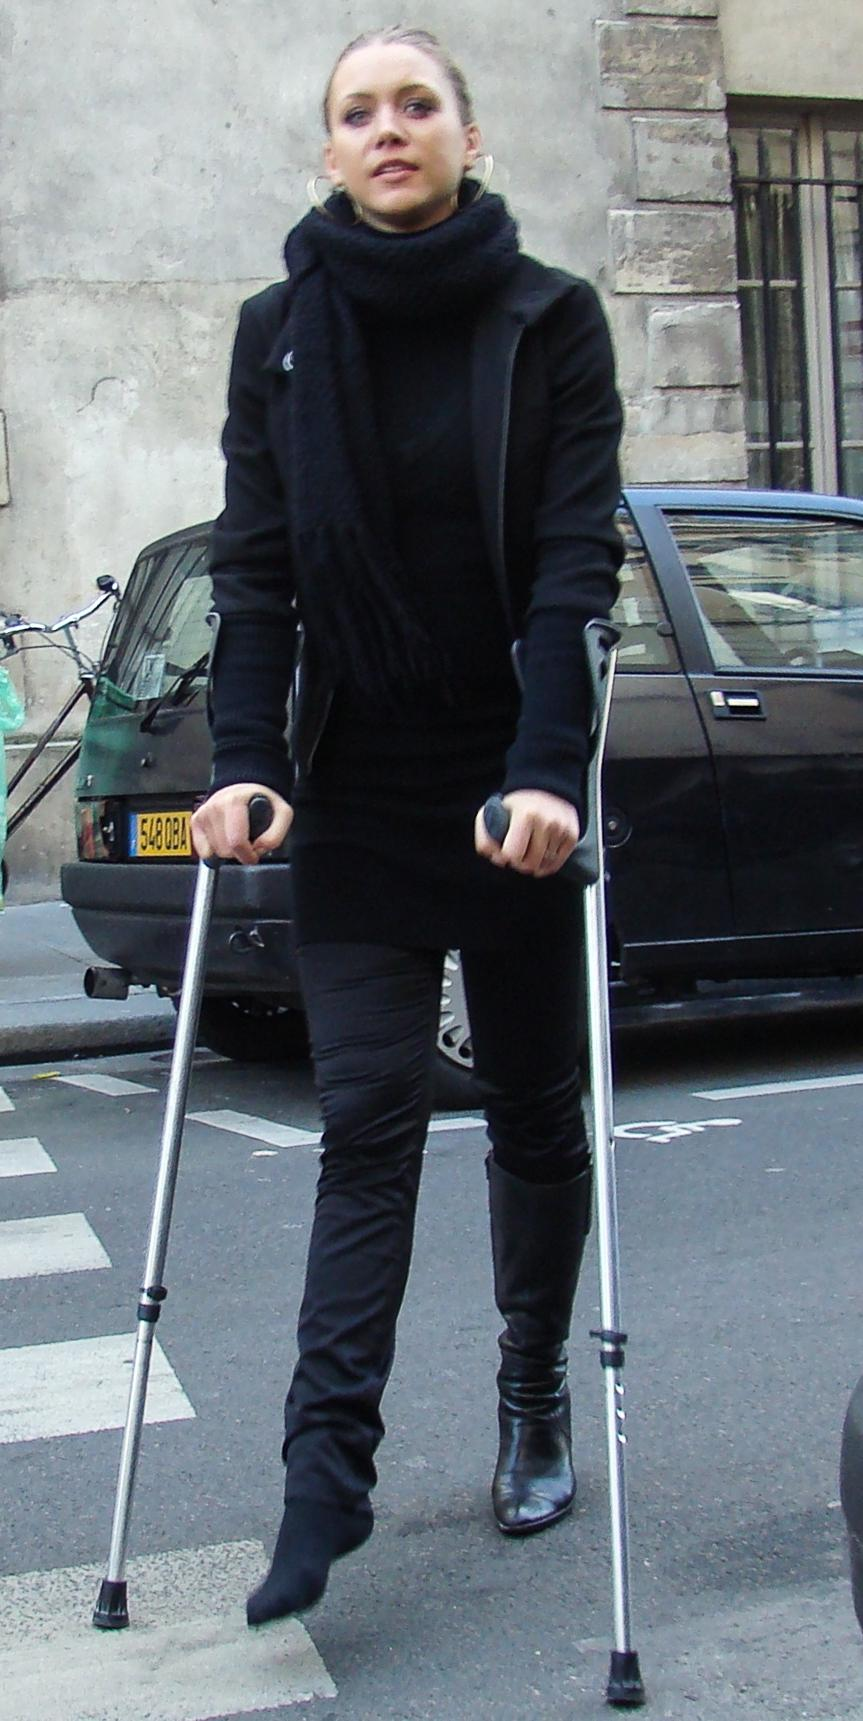crutches: (91, 25, 649, 1711)
